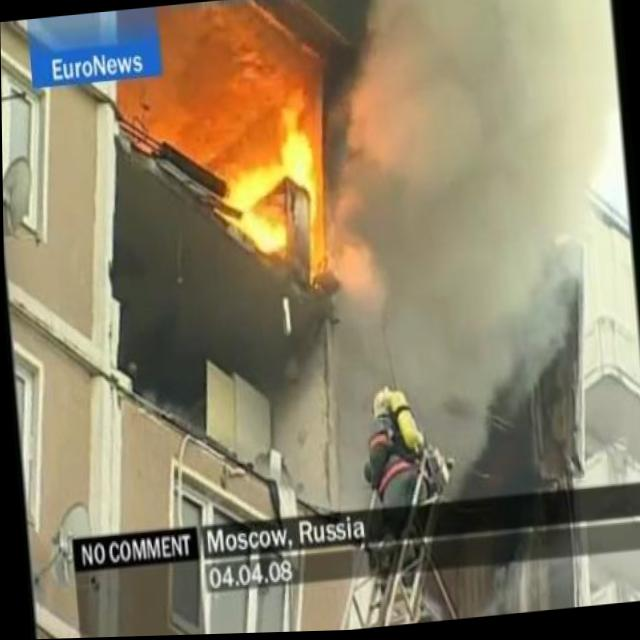fire: (209, 94, 337, 268)
